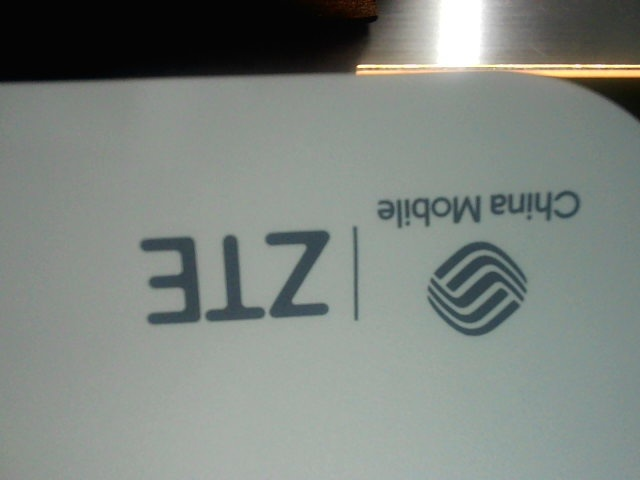AL_ZTEChinaMobile: (138, 180, 585, 338)
